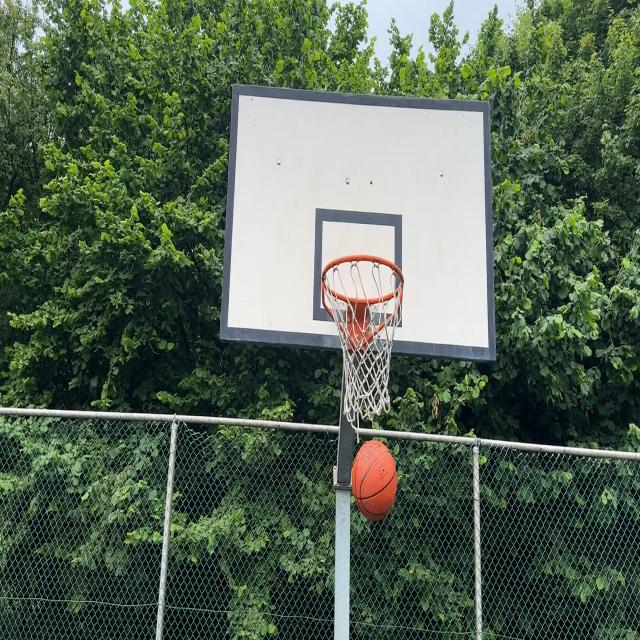Basketball: (351, 442, 398, 523)
